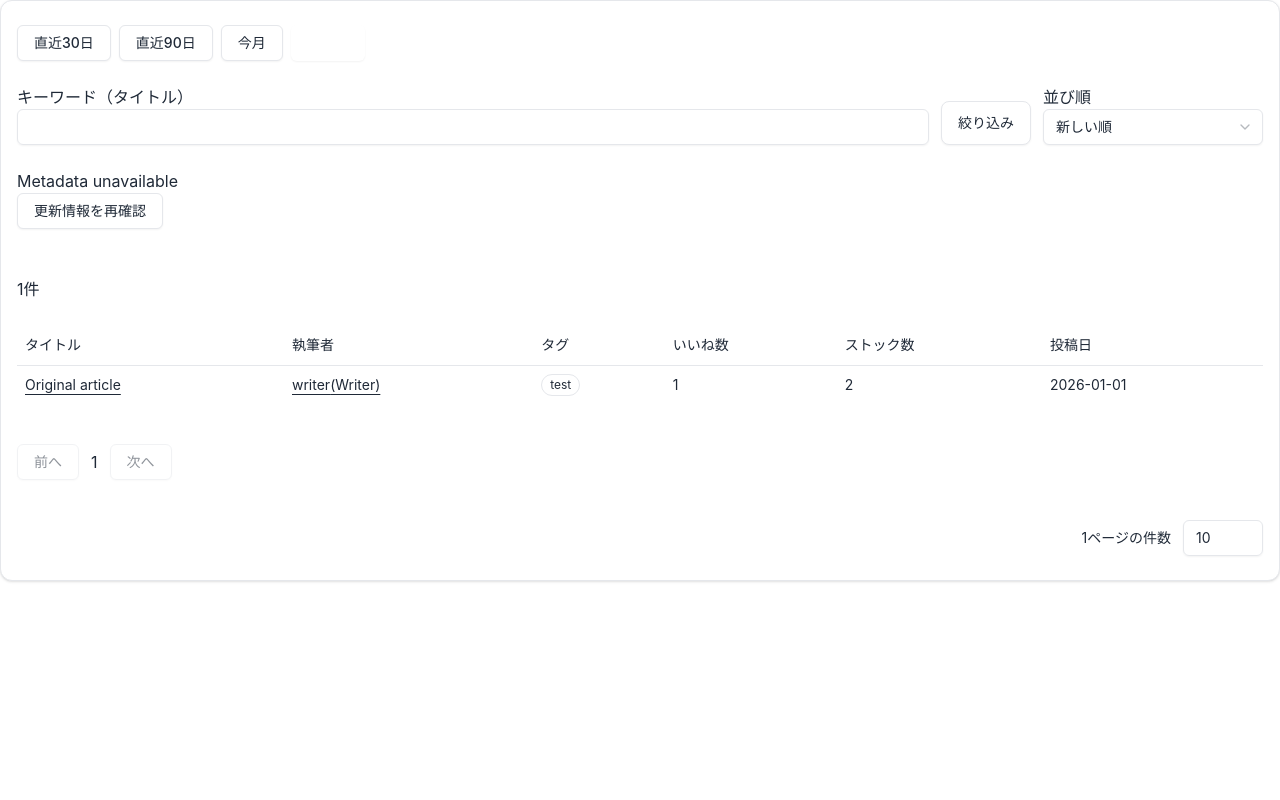
Test: retains rows when metadata fails and can retry metadata independently
The image size is (1280, 800).
Click the button "更新情報を再確認".
click(90, 211)  # box [17, 193, 163, 229]
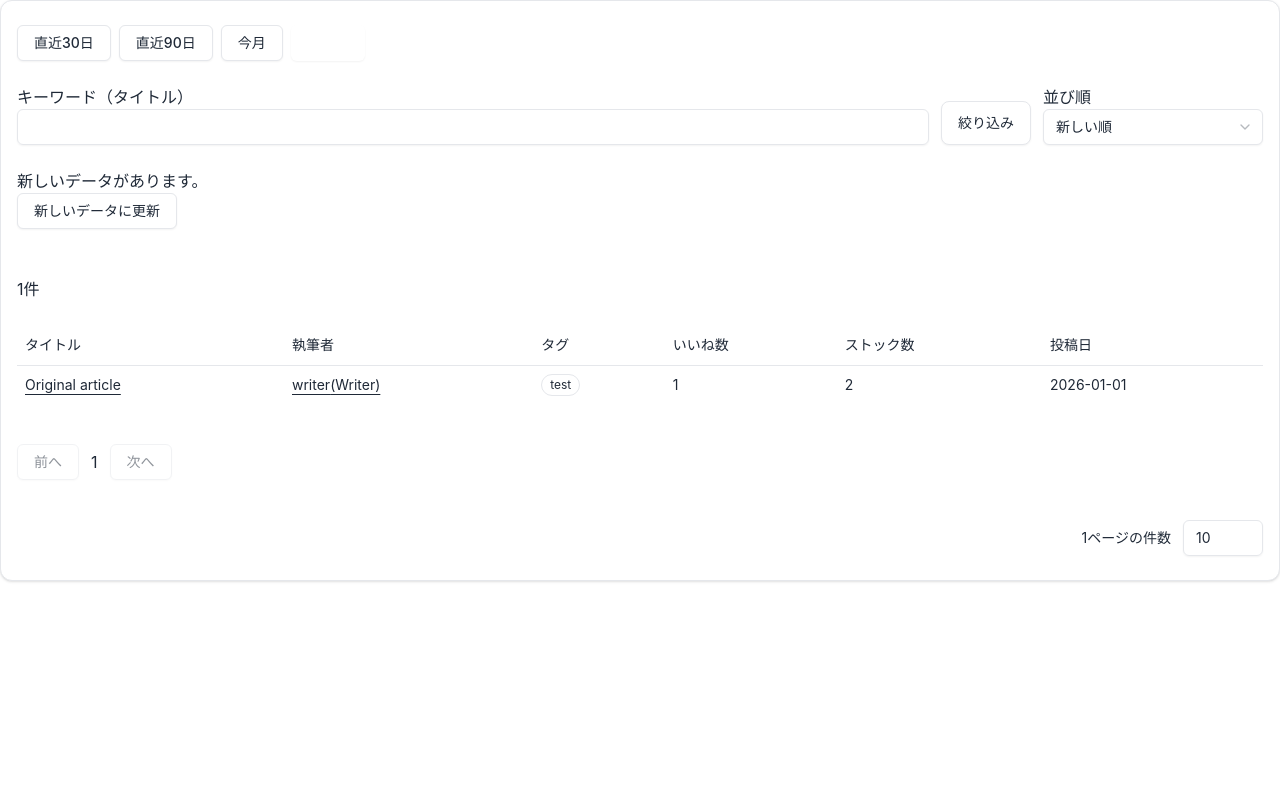
Expected: the text "Original article" is shown, [25, 376, 121, 392]
Expected: the text "新しいデータがあります" is shown, [17, 171, 207, 191]
